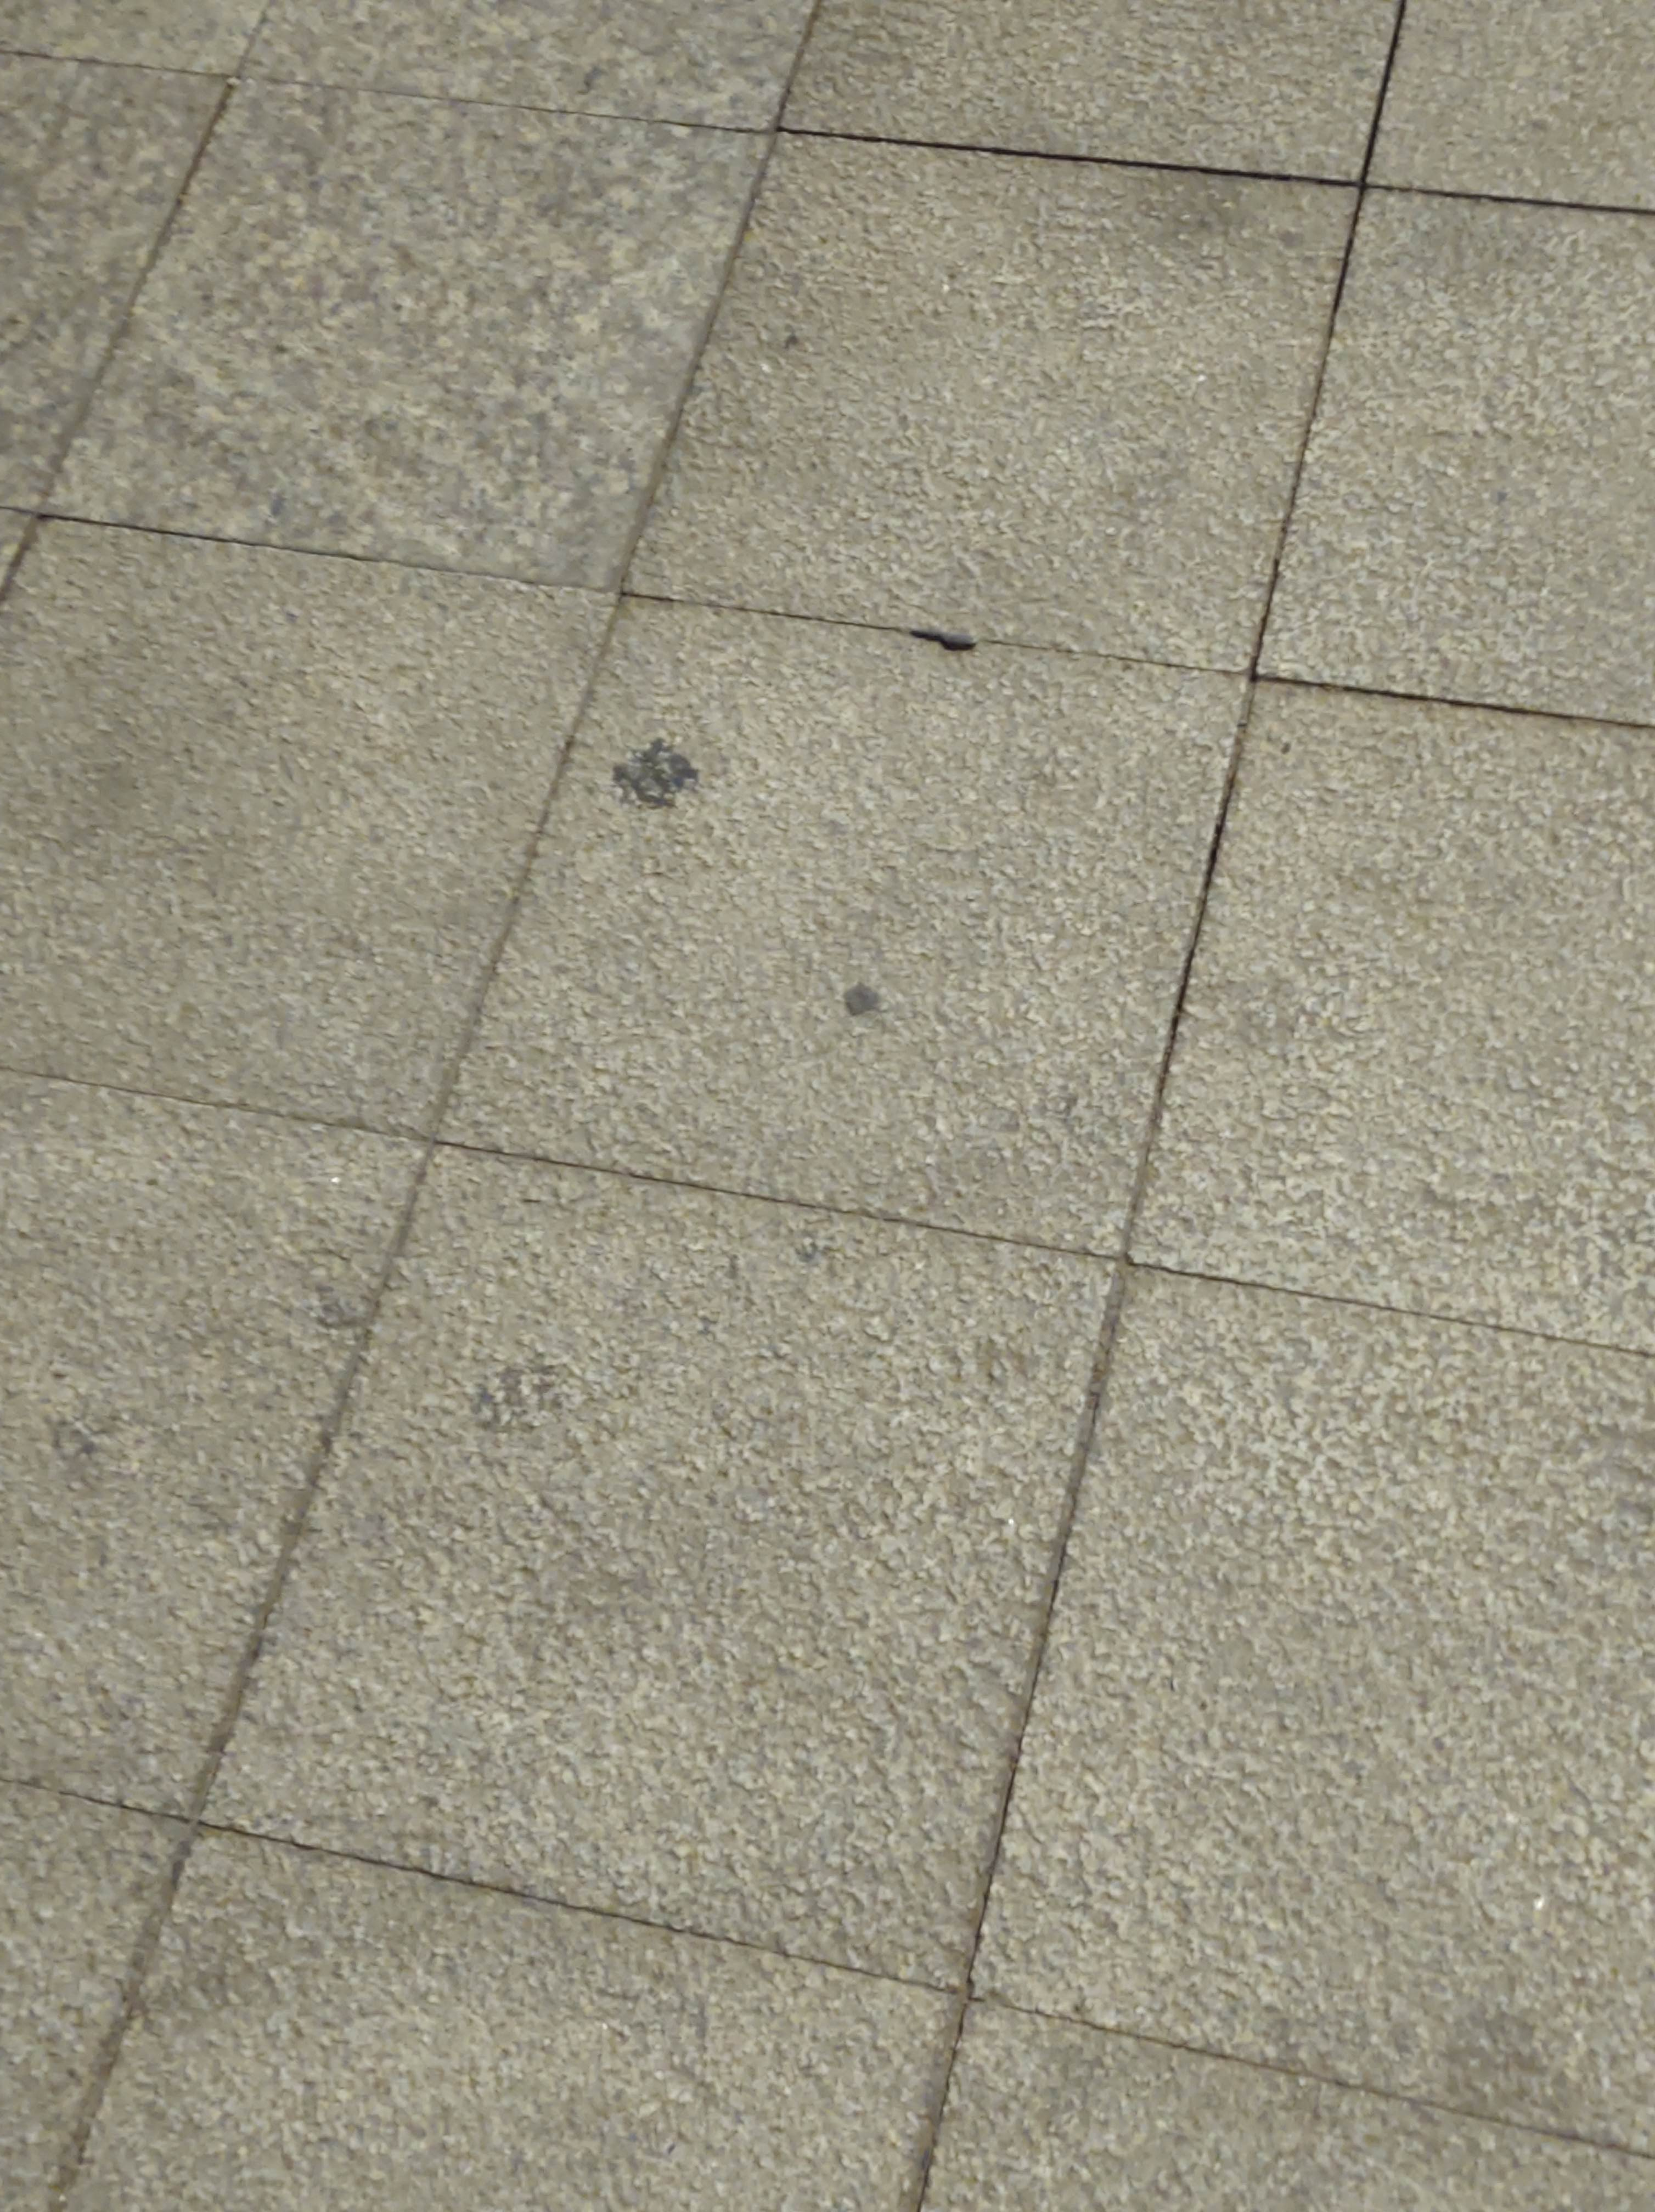grey spot: (614, 737, 701, 808), (843, 982, 880, 1015)
